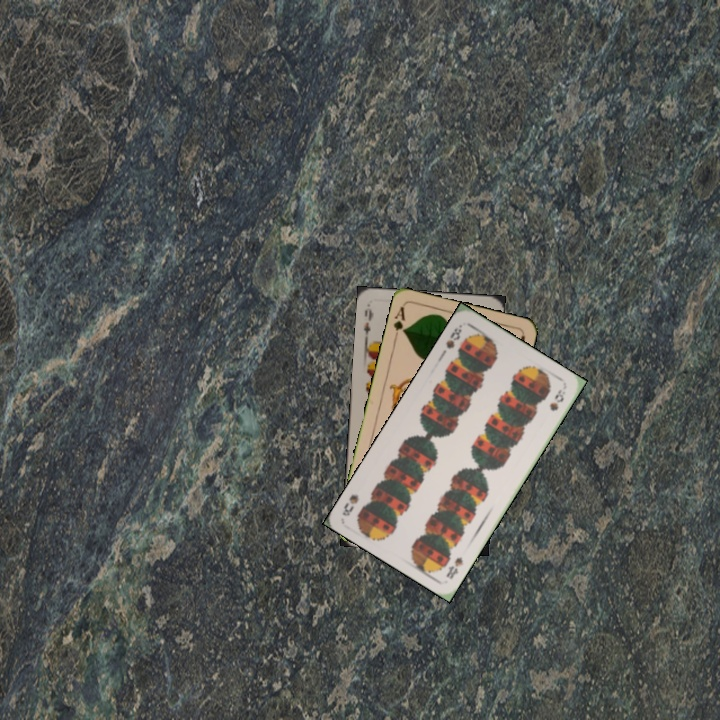E9: (360, 302, 376, 342)
GA: (389, 302, 409, 343)
S8: (442, 320, 465, 351), (442, 553, 465, 582)
